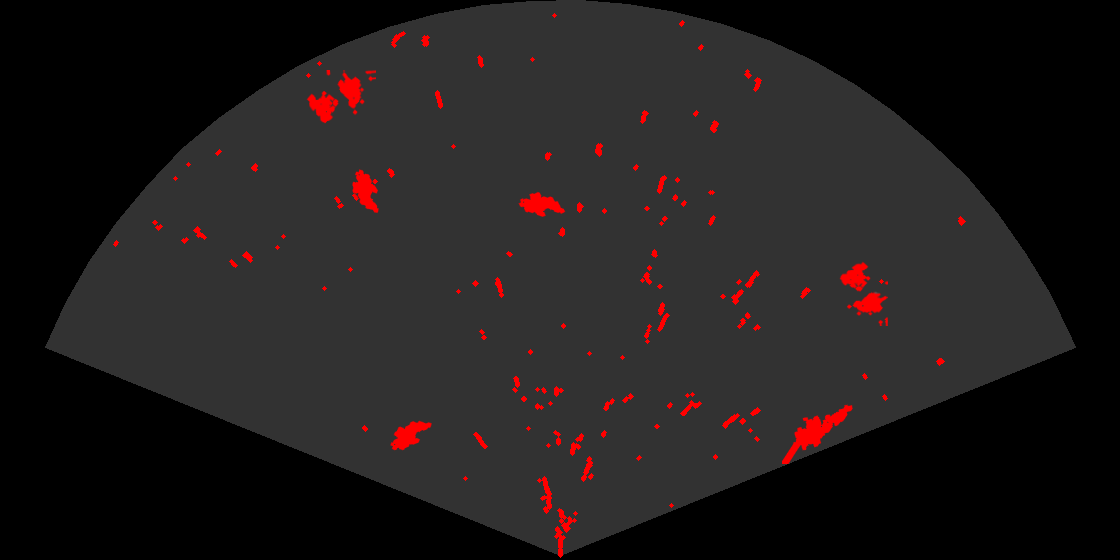AUV: (389, 419, 433, 452), (517, 190, 567, 218), (351, 168, 380, 214)
cage: (305, 70, 376, 125), (838, 260, 888, 326)
frogman: (782, 403, 854, 464)
